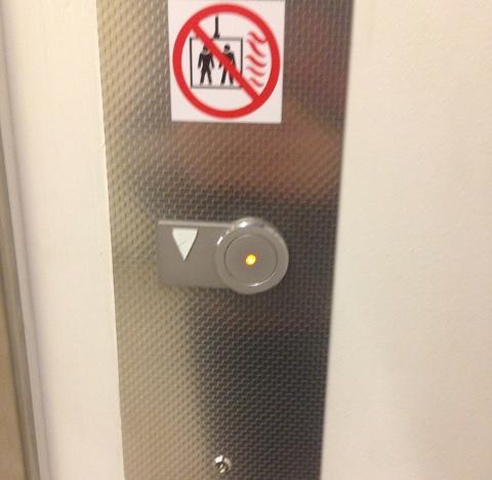down: (152, 213, 294, 297)
keyhole: (212, 456, 233, 474)
